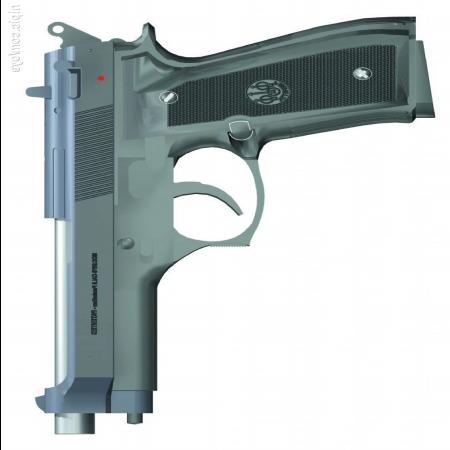Pistol: (25, 13, 435, 436)
